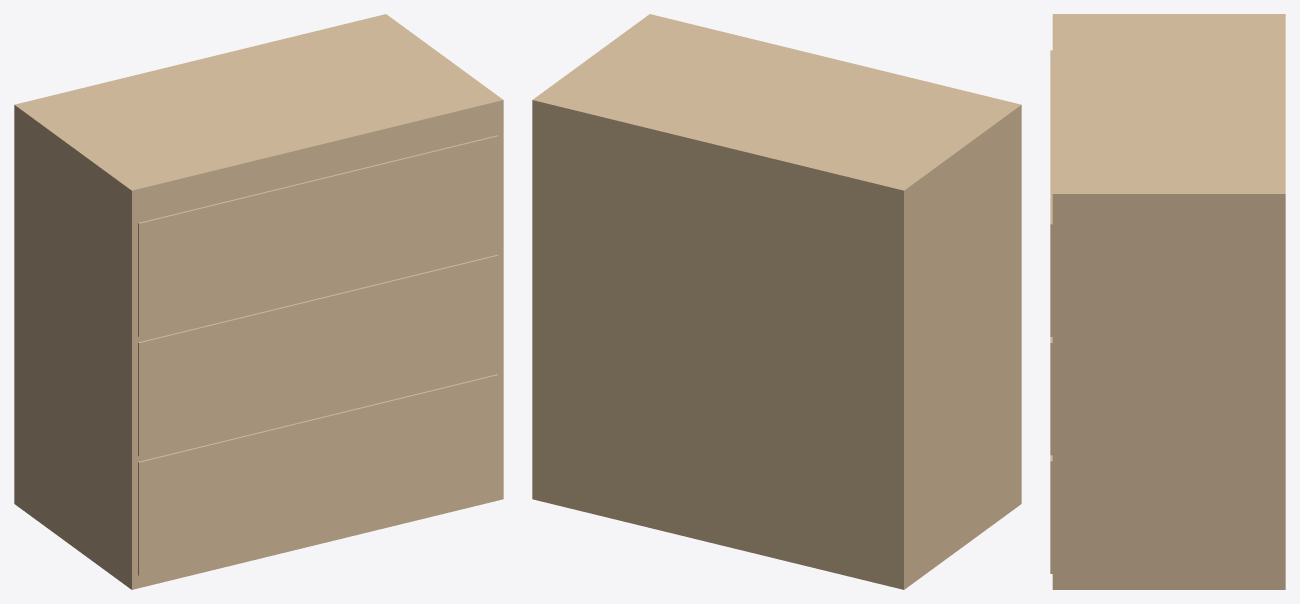
The model's file is s-bed8-o03-6ed94f07cd.glb.
The picture shows the model from 3 angles, left to right: view 1: azimuth 30°, elevation 25°; view 2: azimuth 150°, elevation 25°; view 3: azimuth 270°, elevation 25°; orthographic projection.
Visible parts, largest first — view 1: part-00, drawer-1, drawer-3, drawer-2; view 2: part-00; view 3: part-00, drawer-3, drawer-1, drawer-2.
Boxes of the visible parts, x1,y1,x2,y2 form: part-00: (14, 14, 503, 589); drawer-1: (138, 374, 498, 575); drawer-3: (138, 135, 498, 336); drawer-2: (138, 254, 498, 456); part-00: (532, 14, 1021, 589); part-00: (1052, 14, 1285, 589); drawer-3: (1050, 50, 1052, 336); drawer-1: (1050, 455, 1052, 573); drawer-2: (1050, 337, 1052, 455).
Size of the model in its own units: 0.76 by 0.78 by 0.42.
